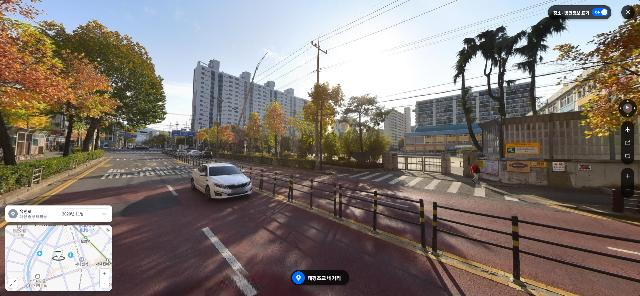other: (1, 12, 166, 152), (0, 11, 120, 165), (454, 12, 568, 153), (552, 0, 640, 160), (303, 81, 344, 169), (342, 93, 394, 162), (264, 101, 287, 157), (288, 112, 312, 156), (244, 111, 264, 155), (196, 124, 220, 152), (220, 124, 234, 154)
